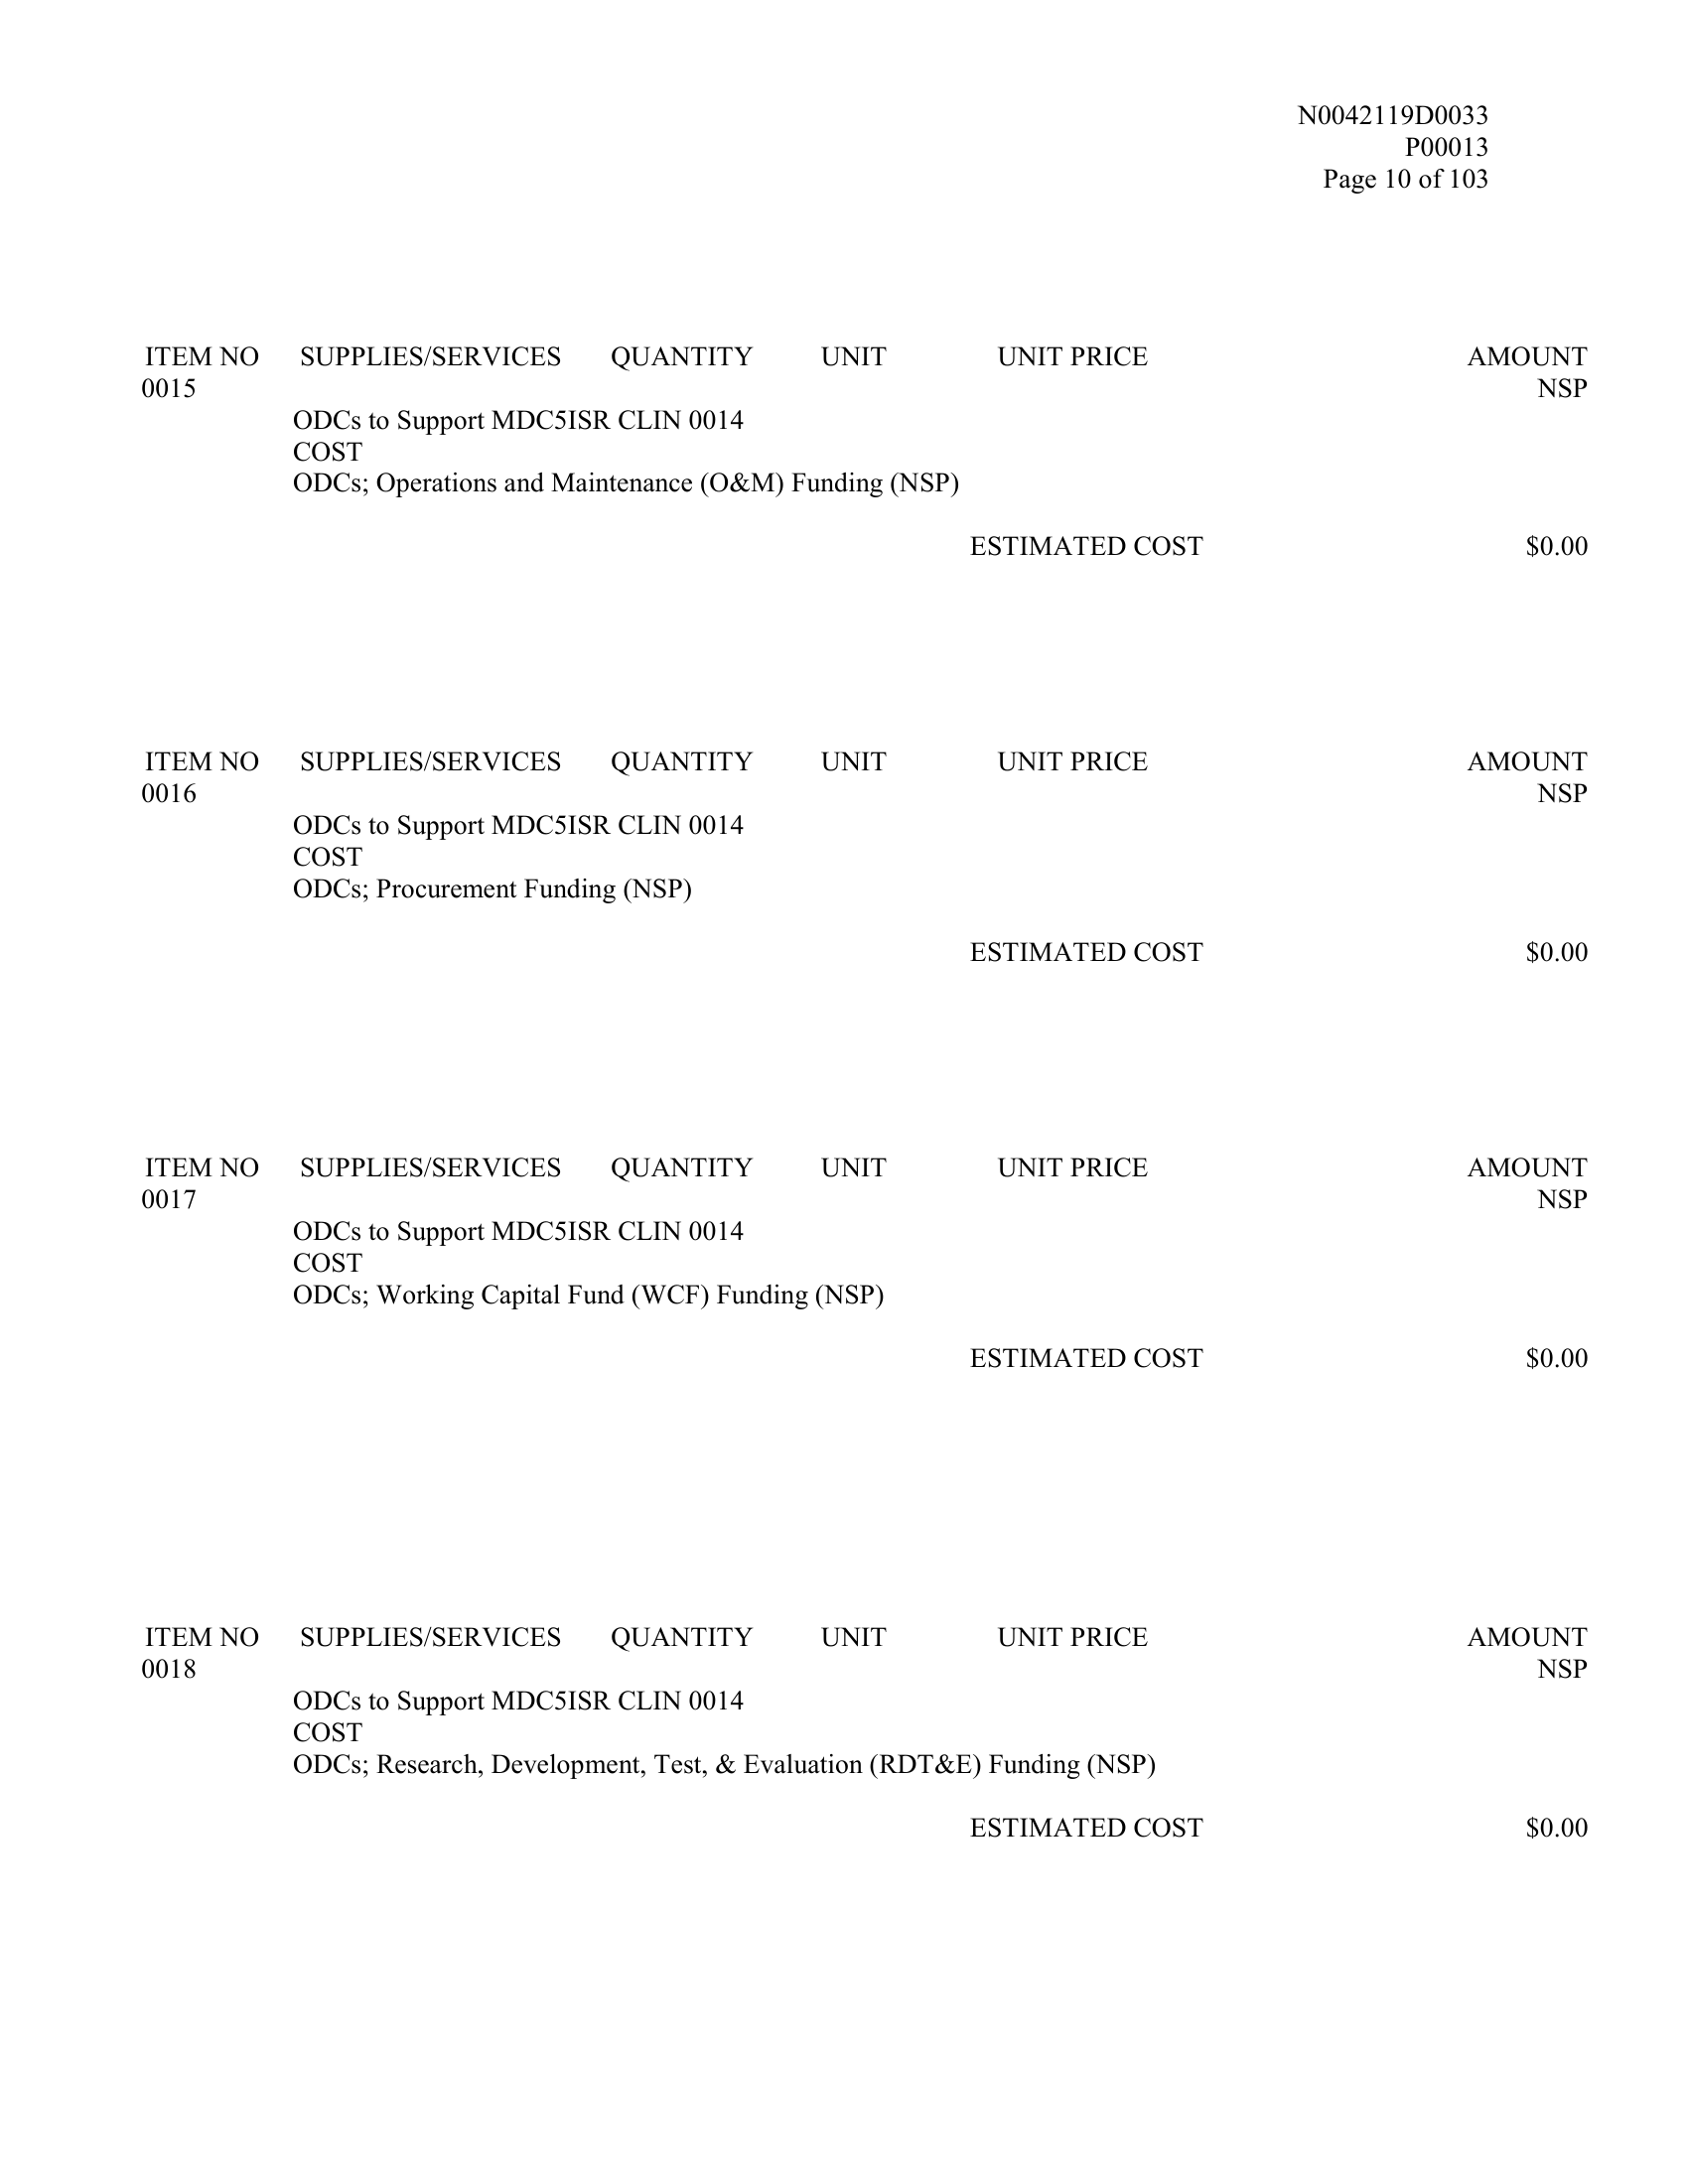table: (135, 1142, 1596, 1388), (135, 729, 1596, 970), (131, 1617, 1592, 1851), (131, 337, 1601, 565)
